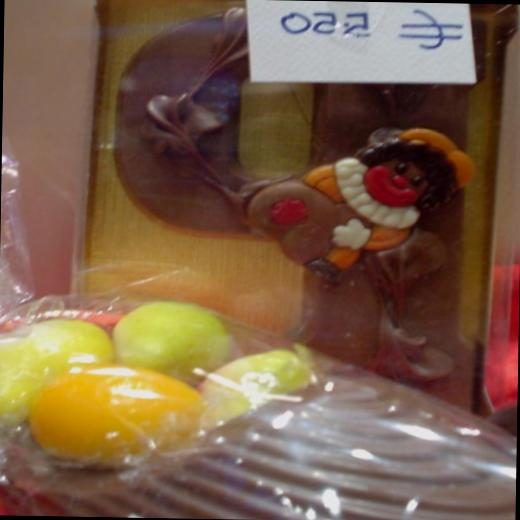Apple: (112, 298, 232, 386)
